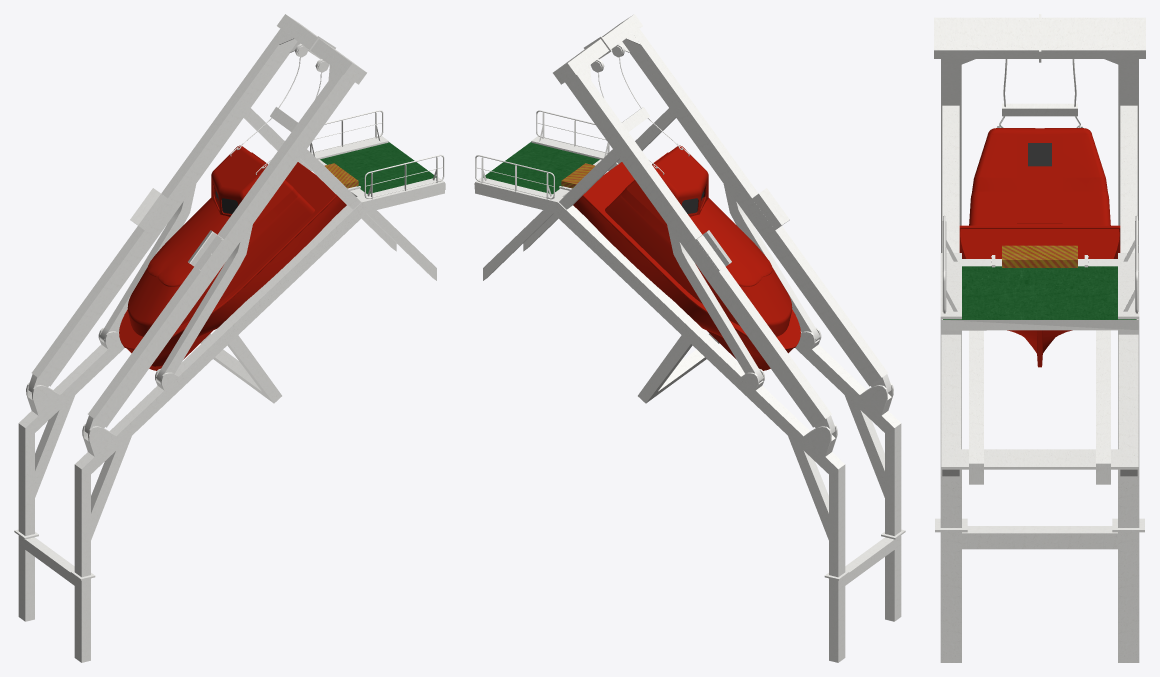
The model's file is ETS_All-001_Lifeboat_171212.FBX.
3 renders of one model, left to right at view 1: azimuth 30°, elevation 25°; view 2: azimuth 150°, elevation 25°; view 3: azimuth 270°, elevation 25°, orthographic. The views are drawn at different scales.
Visible parts, largest first — view 1: Lifeboat_frame, Lifeboat; view 2: Lifeboat_frame, Lifeboat; view 3: Lifeboat_frame, Lifeboat.
Part boxes in pixels (x1,y1,x2,y2): Lifeboat_frame: (14,14,445,662); Lifeboat: (119,145,346,370); Lifeboat_frame: (474,14,905,662); Lifeboat: (573,145,800,370); Lifeboat_frame: (934,14,1145,662); Lifeboat: (959,128,1120,367).
Size of the model in its own units: 11.59 by 16.25 by 3.67.
